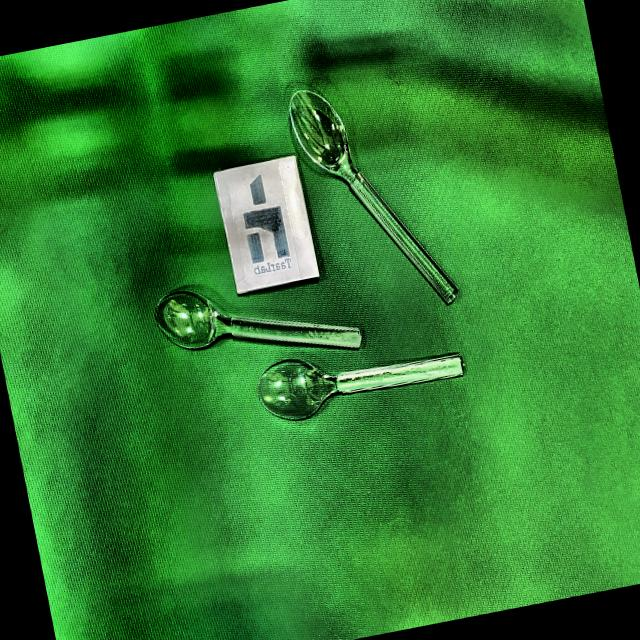plastic utensil: (289, 91, 458, 304), (255, 356, 463, 421), (154, 293, 362, 351)
